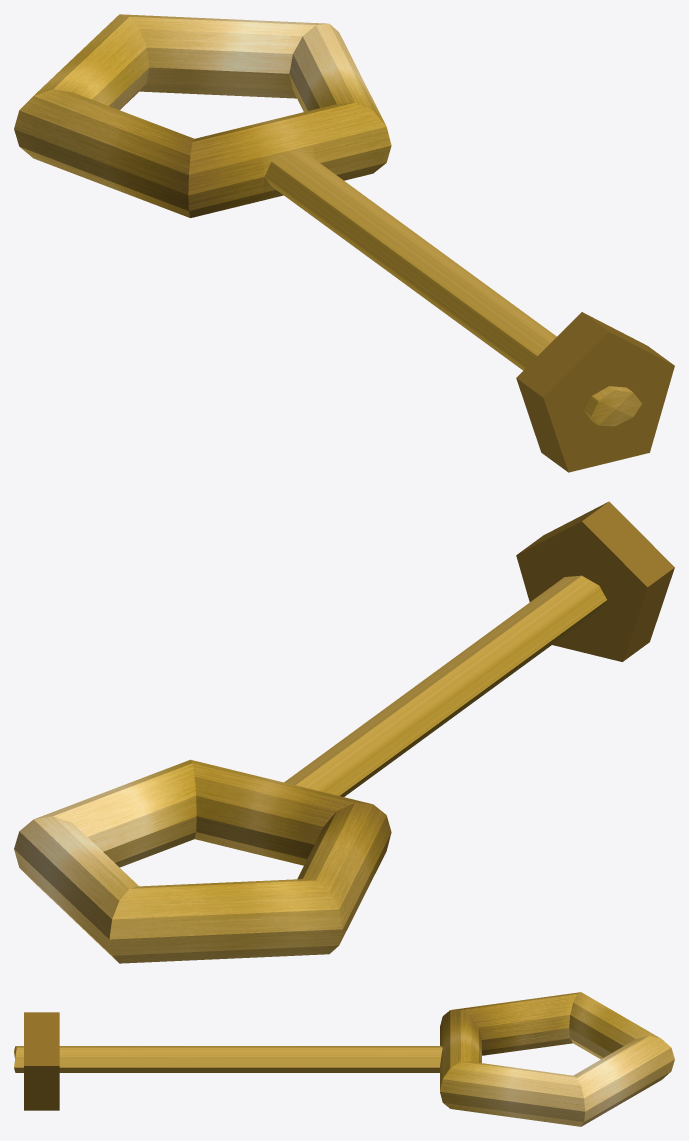
The model's file is pentagonkey.gltf.
The picture shows the model from 3 angles, top to bottom: view 1: azimuth 30°, elevation 25°; view 2: azimuth 150°, elevation 25°; view 3: azimuth 270°, elevation 25°; orthographic projection. The views are drawn at different scales.
Parts seen in each view (by area): view 1: Torus, Torus.001; view 2: Torus, Torus.001; view 3: Torus, Torus.001.
Boxes of the visible parts, <box> form: Torus: <box>14,14,536,354</box>; Torus.001: <box>495,312,674,472</box>; Torus: <box>14,622,545,963</box>; Torus.001: <box>502,501,674,661</box>; Torus: <box>139,992,674,1126</box>; Torus.001: <box>14,1012,142,1110</box>.
Bounding box in the file's own units: 2.38 × 0.9045 × 6.36.
Materials: 1 (1 with a texture image).
